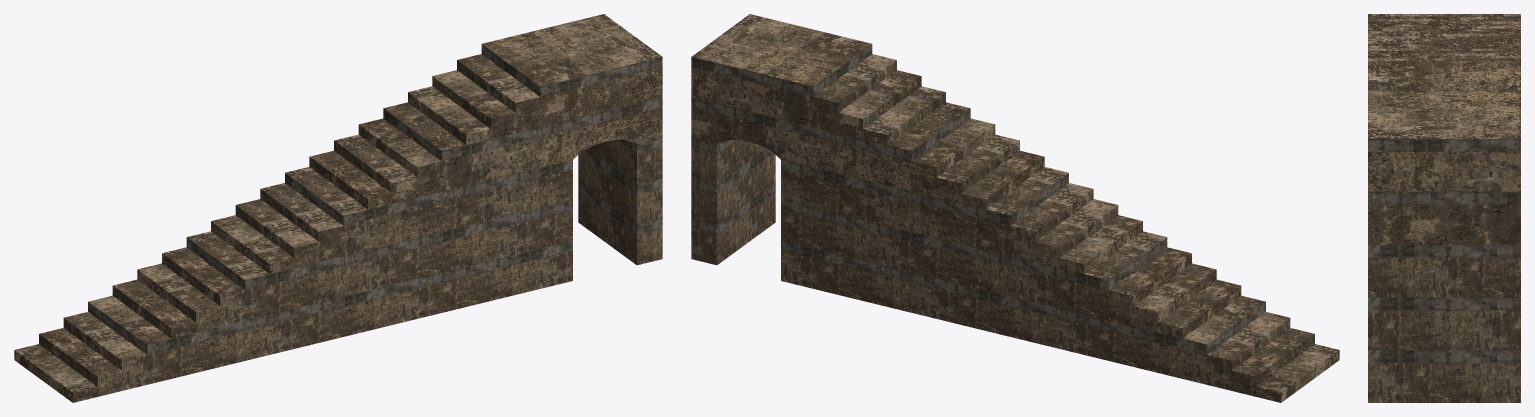
Rendered from materials_5_stairblock_4.fbx.
The picture shows the model from 3 angles, left to right: view 1: azimuth 30°, elevation 25°; view 2: azimuth 150°, elevation 25°; view 3: azimuth 270°, elevation 25°; orthographic projection. The views are drawn at different scales.
Visible parts, largest first — view 1: materials_5_stairblock_4; view 2: materials_5_stairblock_4; view 3: materials_5_stairblock_4.
Part boxes in pixels (<box>): materials_5_stairblock_4: <box>14,14,662,402</box>; materials_5_stairblock_4: <box>691,14,1339,402</box>; materials_5_stairblock_4: <box>1368,14,1520,402</box>.
Size of the model in its own units: 875 by 287 by 150.
